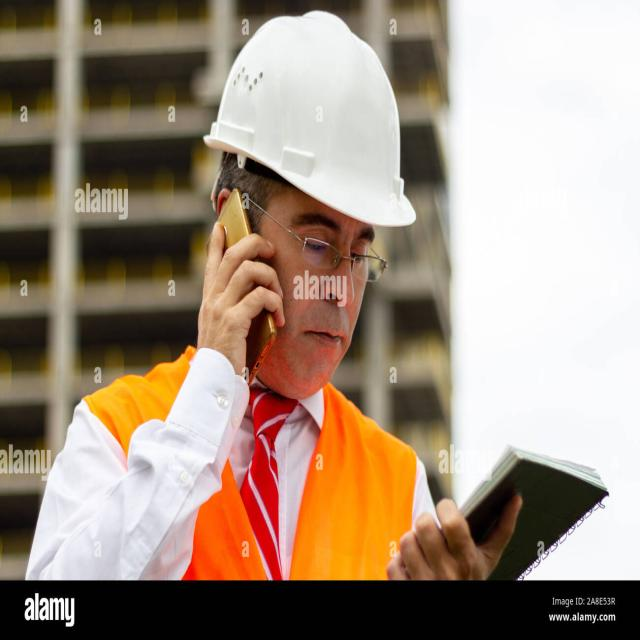helmet: (202, 7, 416, 230)
no-goggles: (223, 184, 391, 306)
vest: (79, 346, 420, 582)
